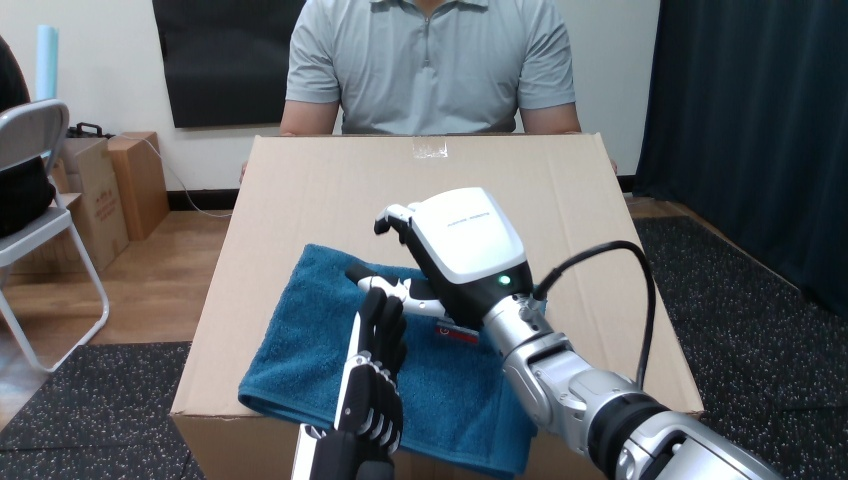left robot hand: (317, 187, 779, 479), (310, 287, 406, 479), (541, 249, 647, 380)
